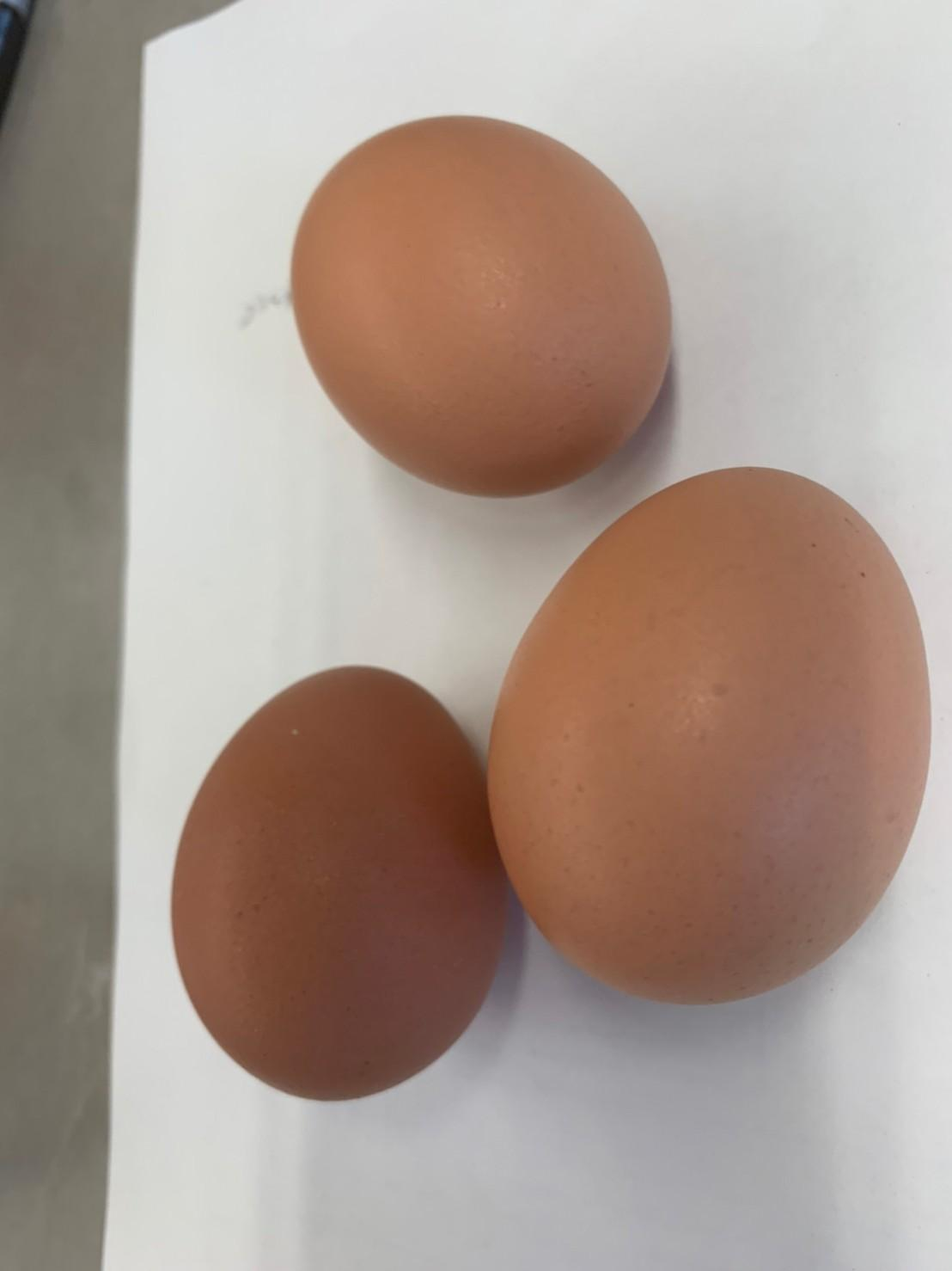egg: (483, 465, 934, 1017), (276, 103, 676, 499), (158, 654, 503, 1107)
